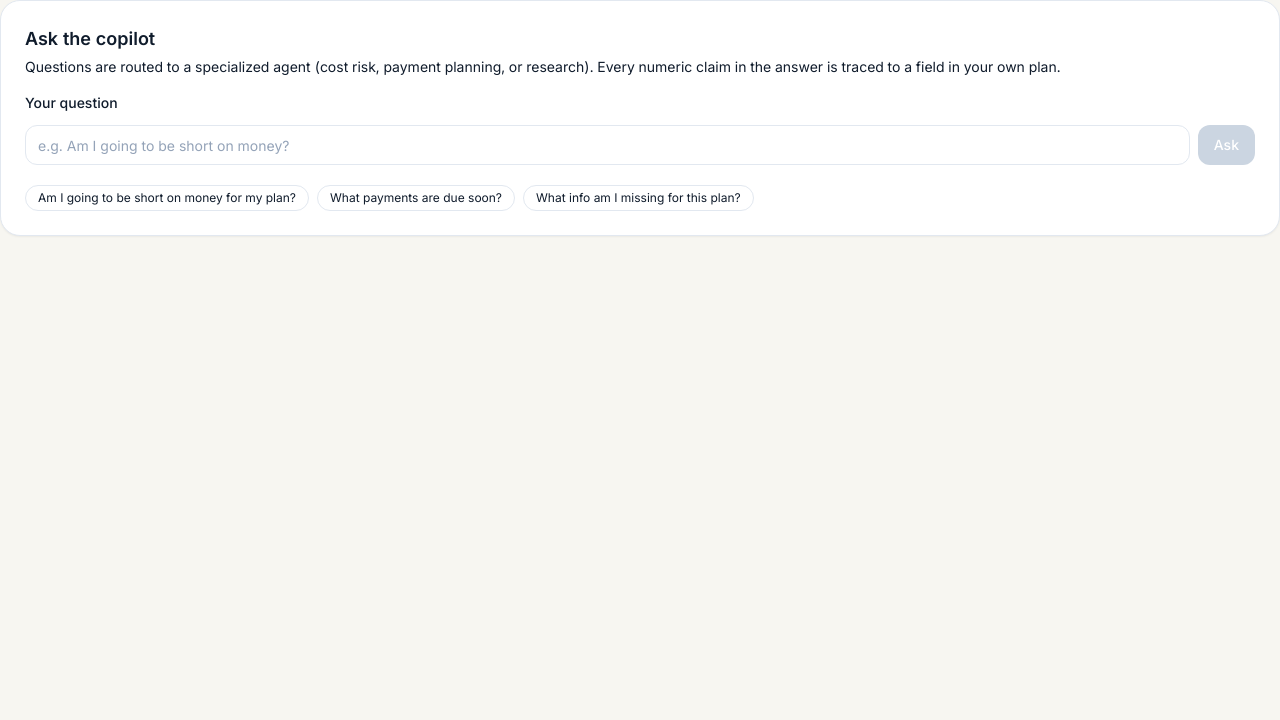
Test: CopilotClient › renders a follow-up click that re-asks the question
Click the button "Am I going to be short on money for my plan?" at (167, 198), box [25,185,309,211]
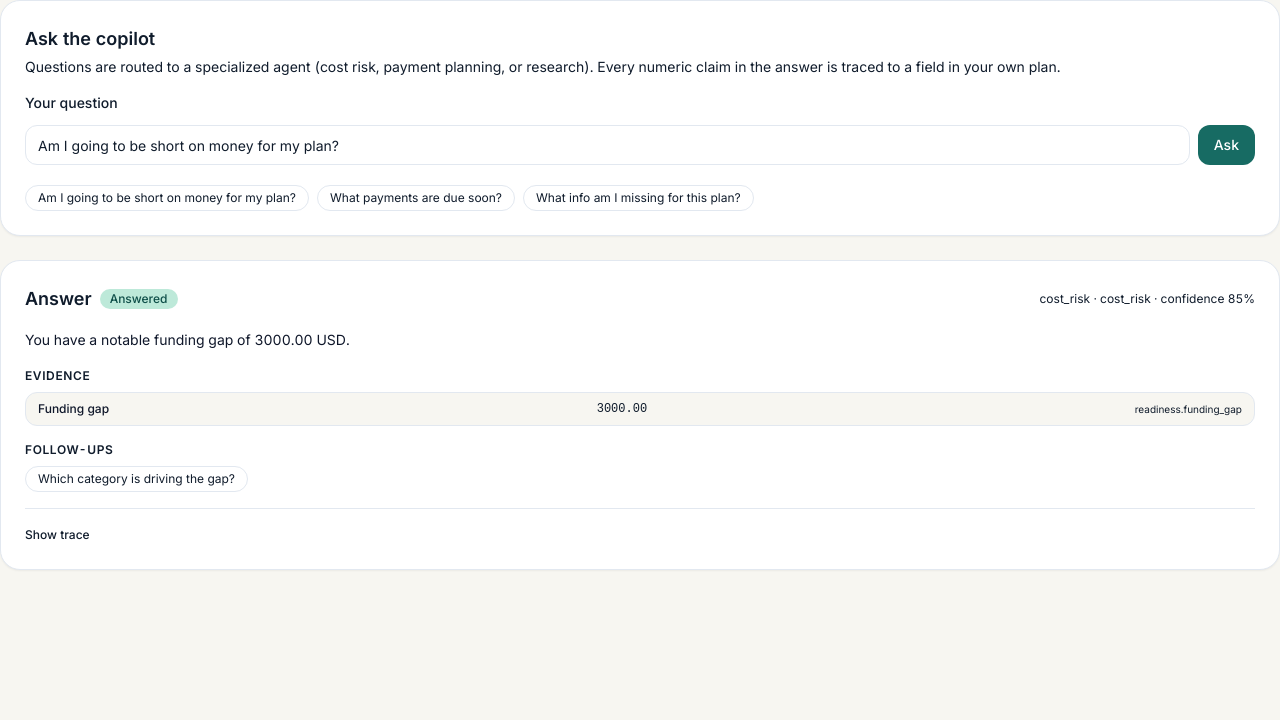
Expected: the button "Which category is driving the gap?" is shown, [25,466,248,492]
